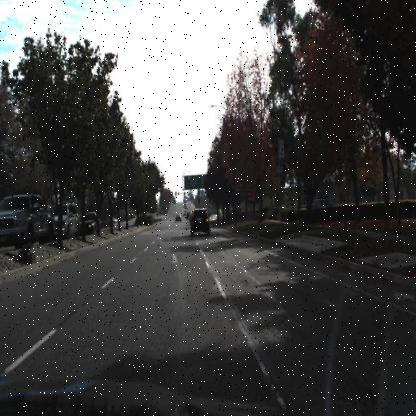car: (0, 194, 56, 252), (48, 201, 84, 239), (56, 202, 80, 242), (190, 209, 210, 237), (84, 212, 98, 236), (175, 213, 181, 223)
